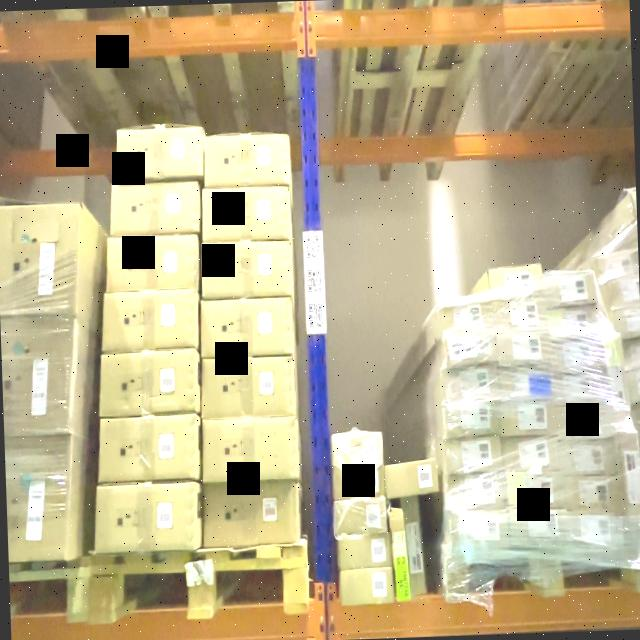box: (95, 488, 194, 554), (100, 416, 196, 482), (101, 350, 195, 414), (200, 301, 292, 359), (202, 362, 292, 420), (203, 422, 294, 479), (106, 236, 196, 293), (103, 296, 196, 350), (206, 484, 298, 538), (202, 188, 288, 245), (110, 182, 200, 236), (200, 245, 290, 297), (115, 130, 202, 180), (205, 138, 289, 186), (566, 473, 616, 511), (450, 516, 506, 548), (562, 439, 612, 474), (568, 516, 624, 546), (386, 462, 436, 494), (559, 404, 609, 436), (490, 268, 542, 298), (554, 371, 604, 402), (452, 477, 500, 508), (510, 472, 556, 504), (442, 302, 491, 332), (336, 466, 381, 498), (338, 503, 386, 533), (512, 510, 557, 541), (546, 274, 594, 303), (336, 433, 380, 464), (446, 408, 497, 434), (498, 338, 547, 365), (494, 302, 546, 327), (502, 440, 552, 466), (445, 372, 497, 396), (551, 342, 599, 368), (342, 540, 388, 567), (450, 443, 494, 471), (345, 574, 392, 600), (501, 405, 547, 430), (551, 308, 595, 334), (501, 374, 550, 397), (449, 341, 494, 365)
